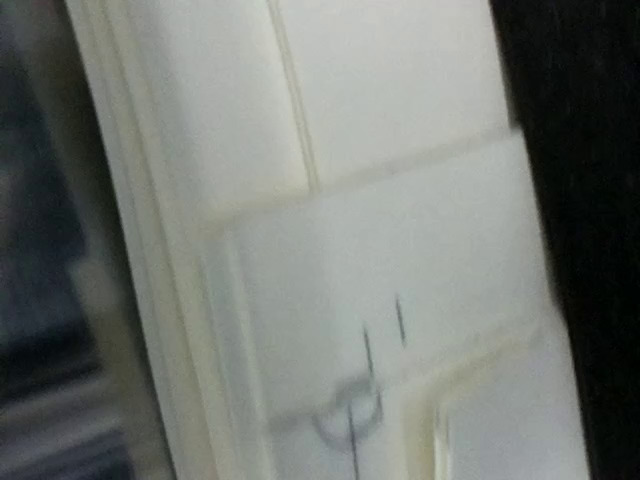not_sure: (254, 326, 405, 460)
